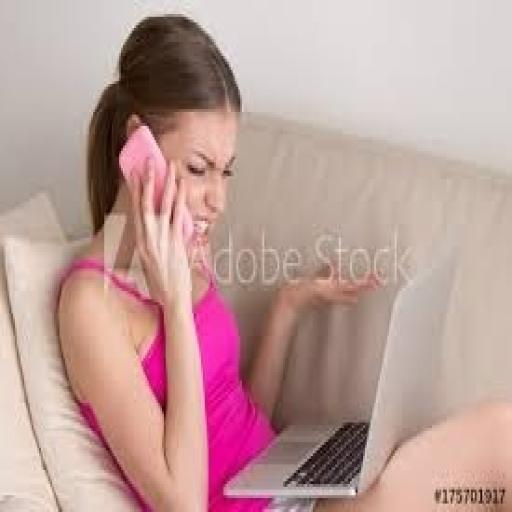calling: (54, 11, 510, 509)
